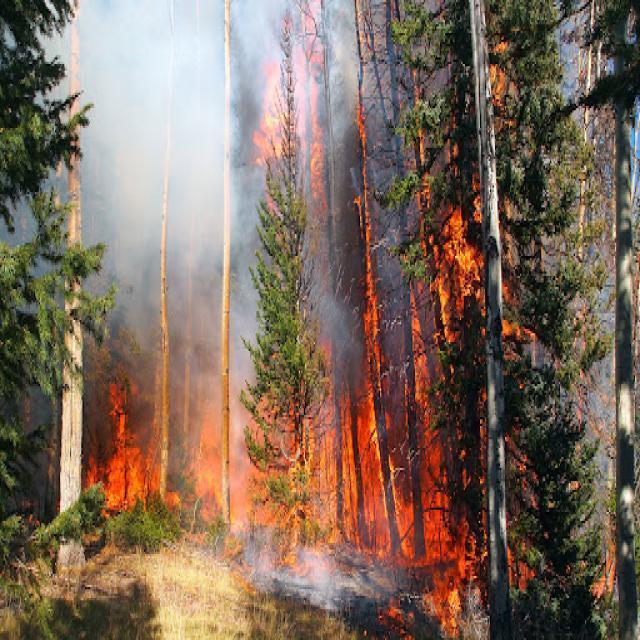Fire: (81, 276, 533, 640), (241, 0, 531, 276)
Smoke: (51, 0, 242, 273)
